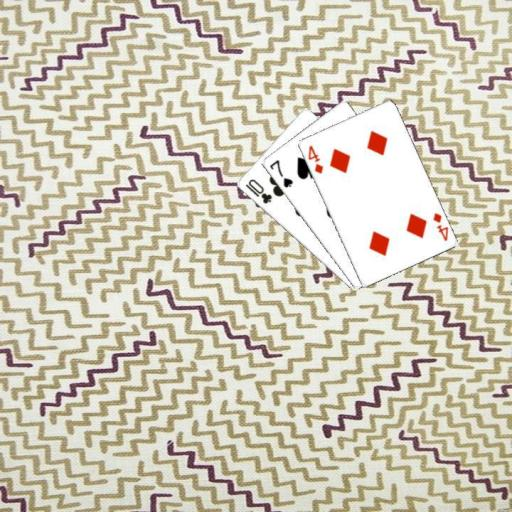10C: (242, 176, 273, 206)
4D: (430, 209, 450, 243), (305, 142, 325, 175)
7S: (266, 157, 294, 189)
